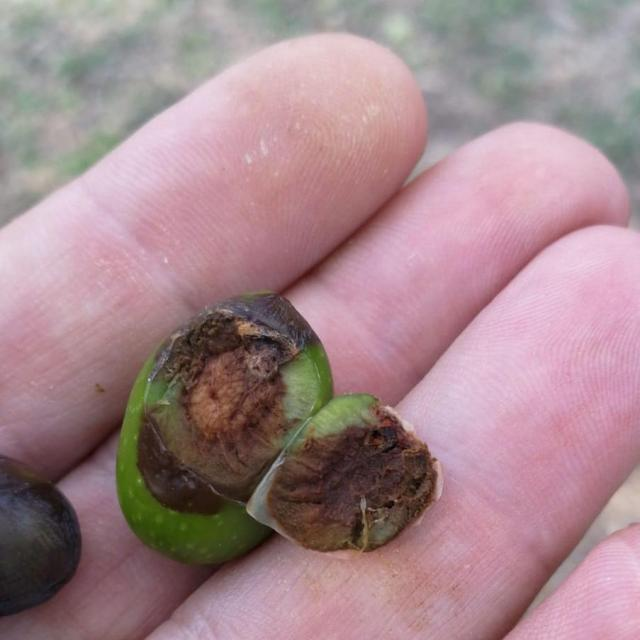Olive Fruit Fly: (117, 294, 437, 563)
